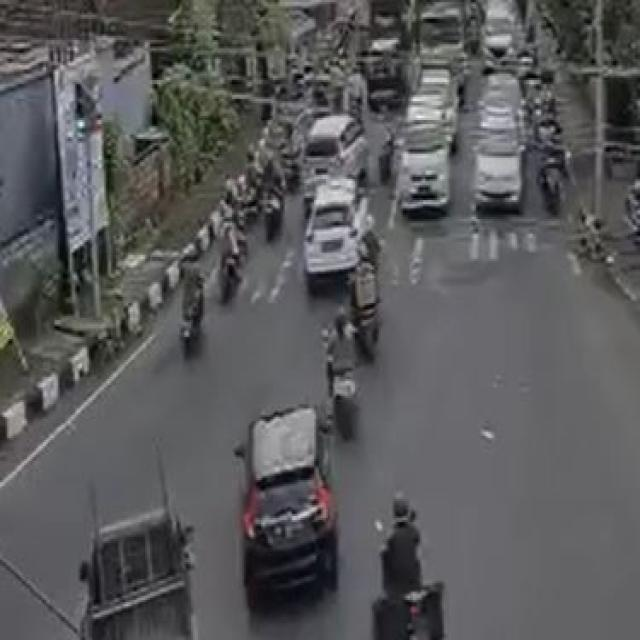car: (236, 396, 344, 632), (305, 172, 382, 303), (302, 107, 377, 214), (467, 100, 532, 223), (404, 96, 461, 212)
motorbike: (382, 457, 461, 640), (168, 271, 213, 374), (324, 322, 364, 424), (356, 253, 402, 335), (214, 228, 255, 290), (261, 178, 289, 241), (542, 144, 562, 206)
